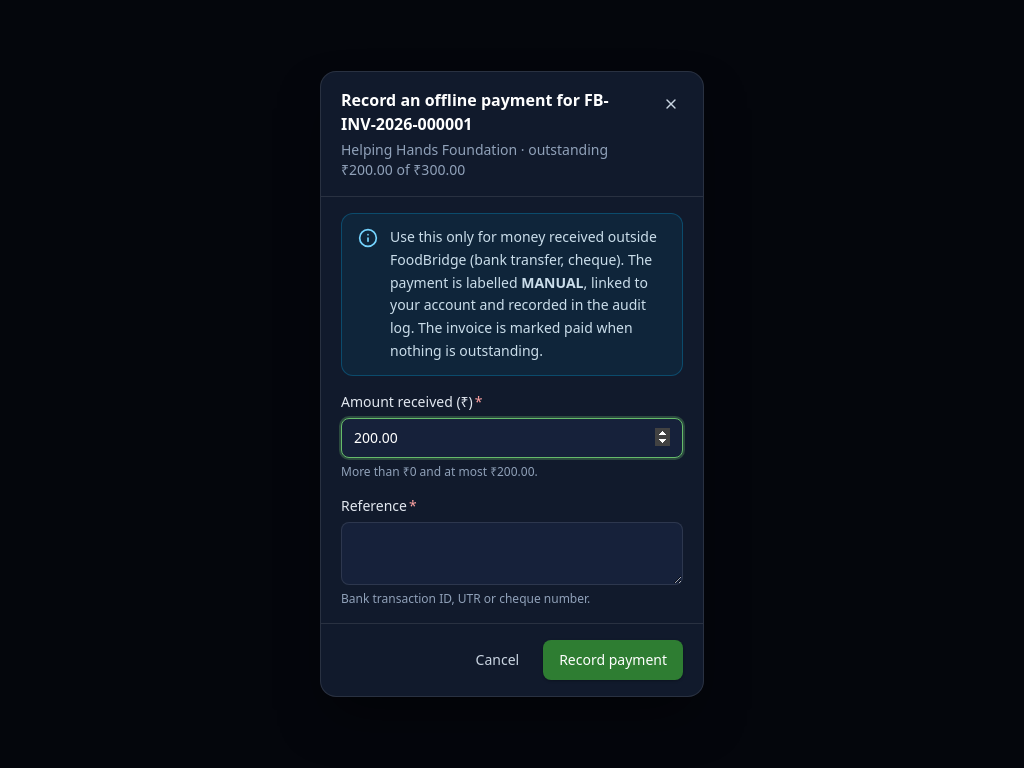
Test: manual (offline) payments › shows OVERPAYMENT from the server on the amount field
Type "NEFT UTR 998877" into the text box labelled "Reference*".
click(512, 553); type("NEFT UTR 998877")  # box [341,522,683,585]
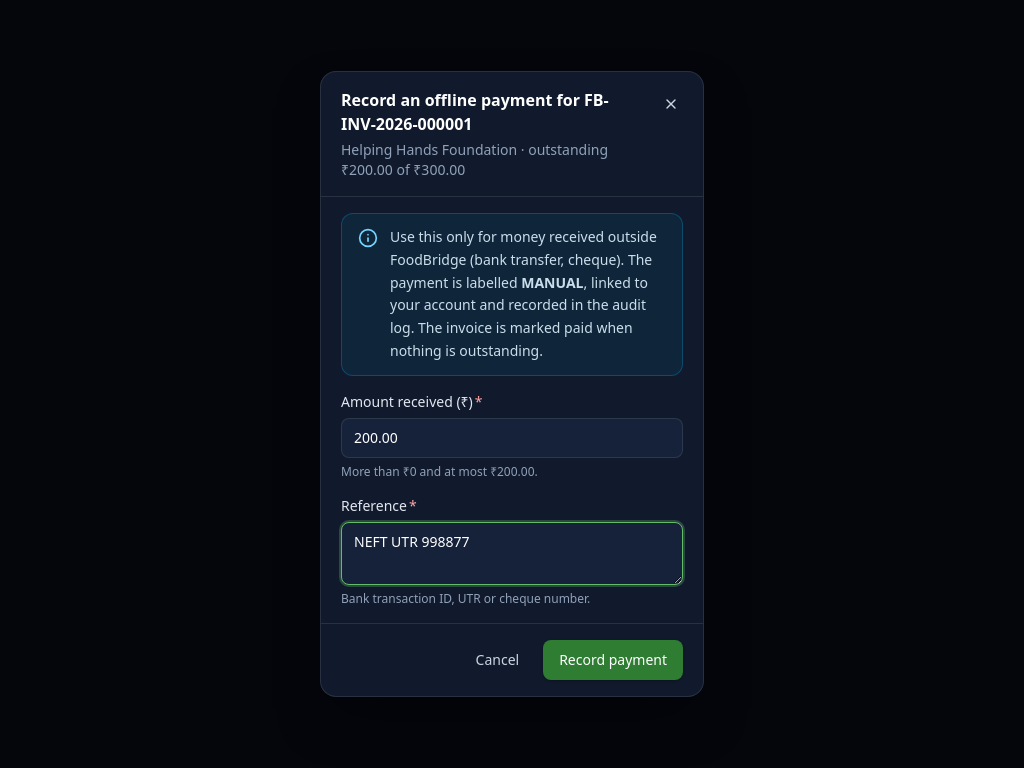
Click the button "Record payment".
click(613, 660)  # box [543,640,683,680]
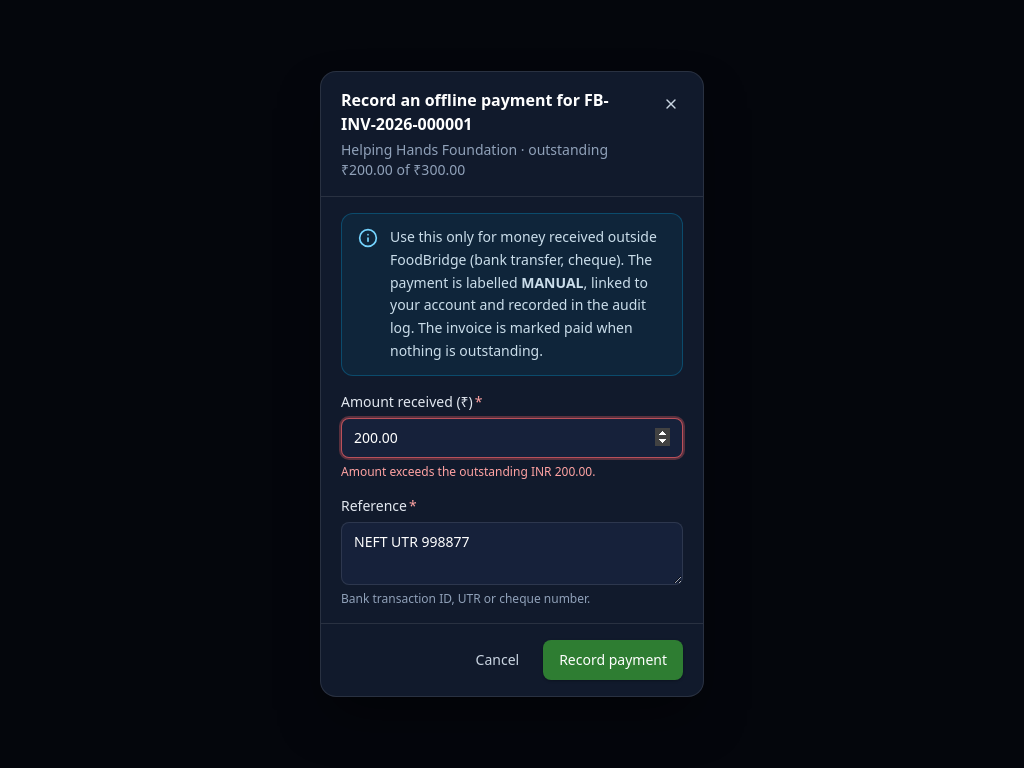
Expected: the text "Amount exceeds the outstanding INR 200.00." is shown, [341,462,595,480]
